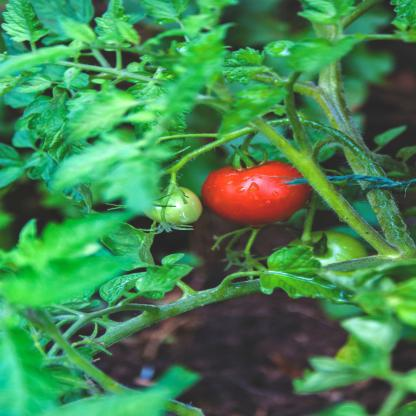tomato: (196, 158, 316, 230)
